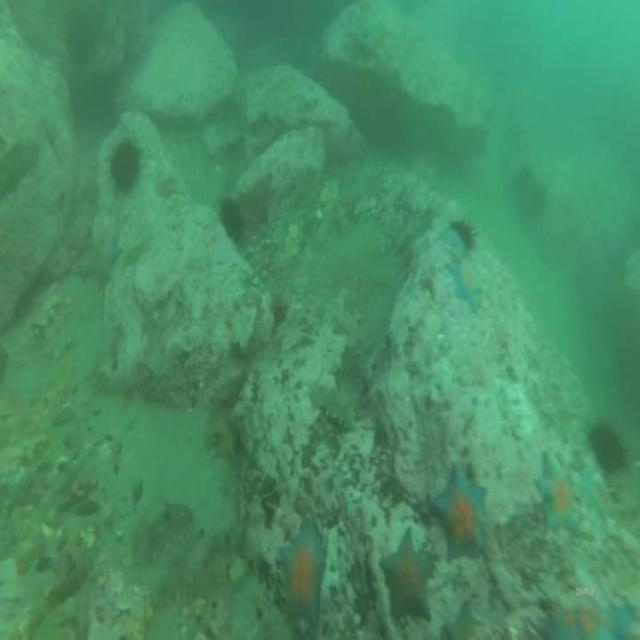echinus: (592, 422, 623, 472), (111, 145, 139, 188), (220, 201, 242, 243)
holothurian: (152, 568, 214, 608), (308, 379, 354, 428)
starfish: (426, 464, 485, 560), (380, 530, 432, 624), (280, 532, 322, 628), (537, 455, 579, 533), (449, 256, 483, 310), (95, 245, 122, 283)
